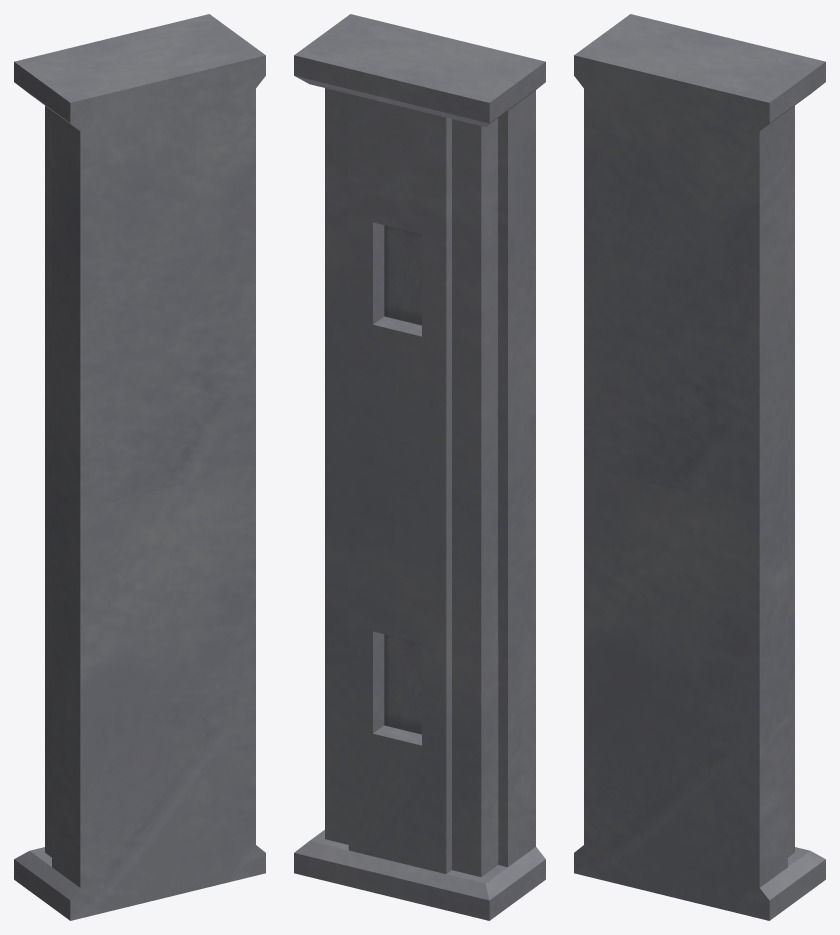
The model's file is PillarHole.001.fbx.
3 renders of one model, left to right at view 1: azimuth 30°, elevation 25°; view 2: azimuth 150°, elevation 25°; view 3: azimuth 330°, elevation 25°, orthographic.
Parts seen in each view (by area): view 1: PillarHole.001; view 2: PillarHole.001; view 3: PillarHole.001.
Boxes of the visible parts, x1,y1,x2,y2 form: PillarHole.001: [14, 14, 265, 920]; PillarHole.001: [294, 14, 545, 920]; PillarHole.001: [574, 14, 825, 920].
Bounding box in the file's own units: 100 × 400 × 50.
